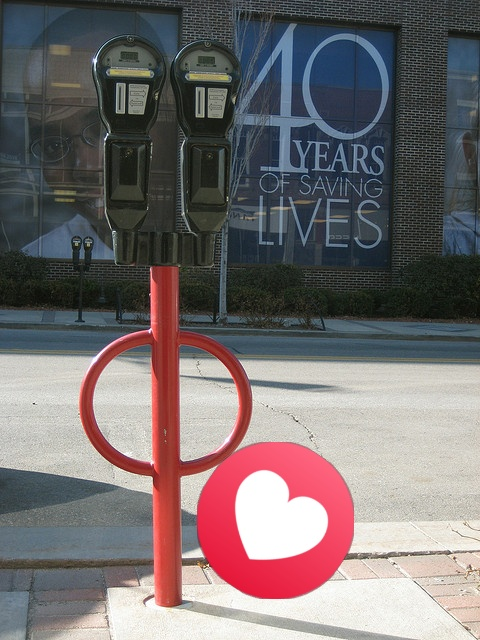love: (197, 442, 354, 599)
